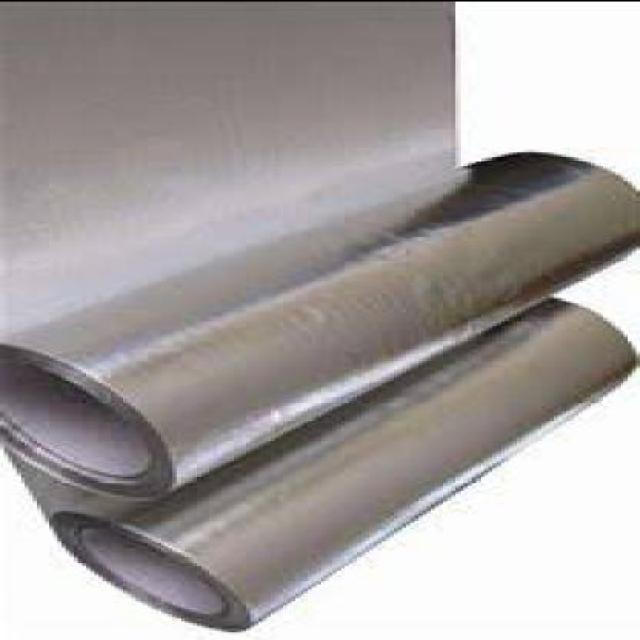METAL: (3, 146, 639, 497), (58, 293, 639, 629), (3, 2, 460, 343)
